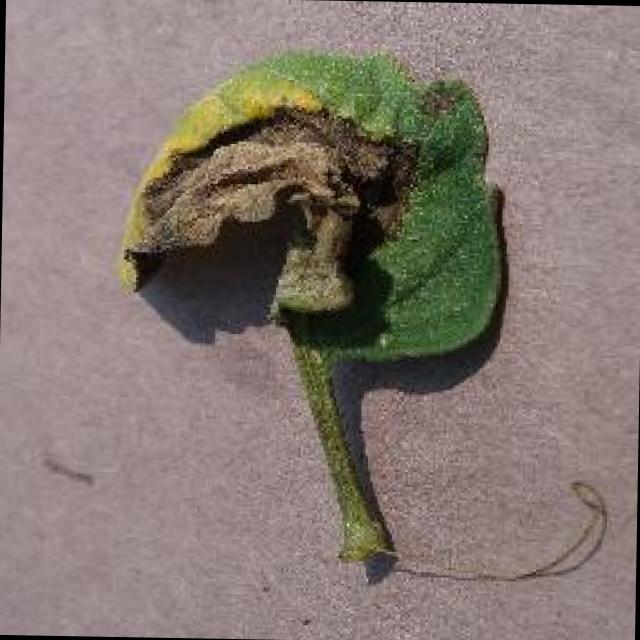Tomato_Late_Blight: (110, 78, 420, 337)
